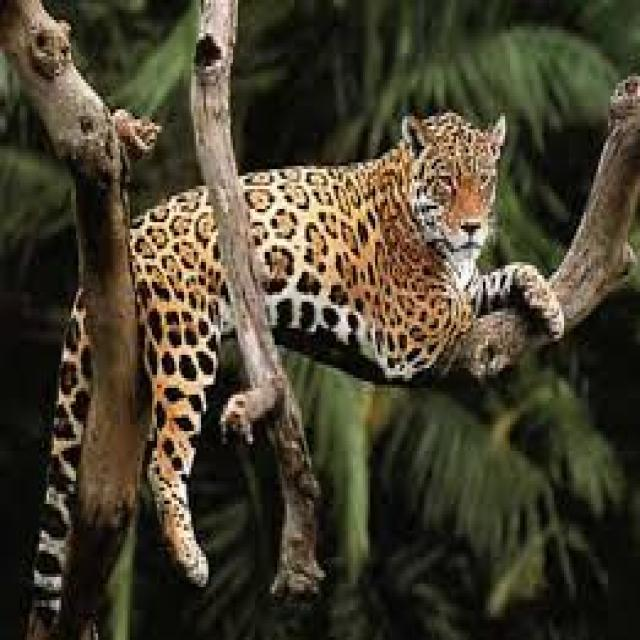Jaguar: (32, 109, 566, 640)
